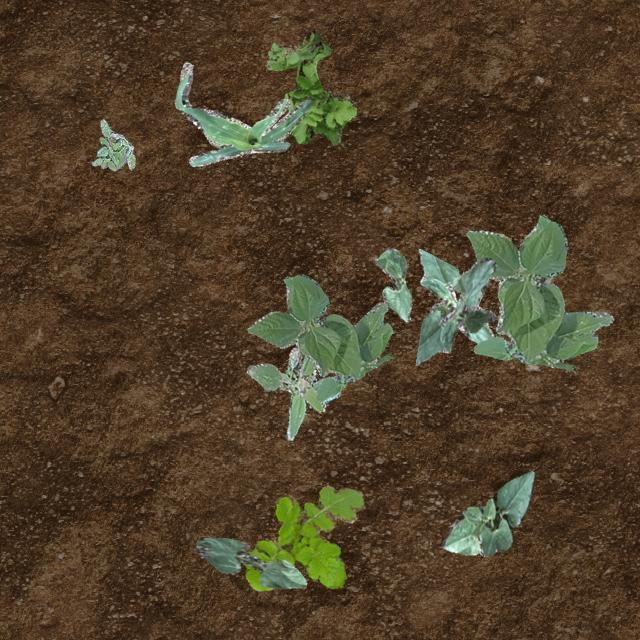crop: (466, 214, 612, 370), (246, 272, 392, 400), (174, 61, 312, 166), (414, 256, 496, 364), (441, 470, 534, 556), (418, 248, 492, 342), (196, 536, 306, 588), (374, 247, 411, 321)
weed: (244, 484, 362, 590), (264, 28, 356, 144), (246, 346, 340, 438), (90, 119, 132, 170)
